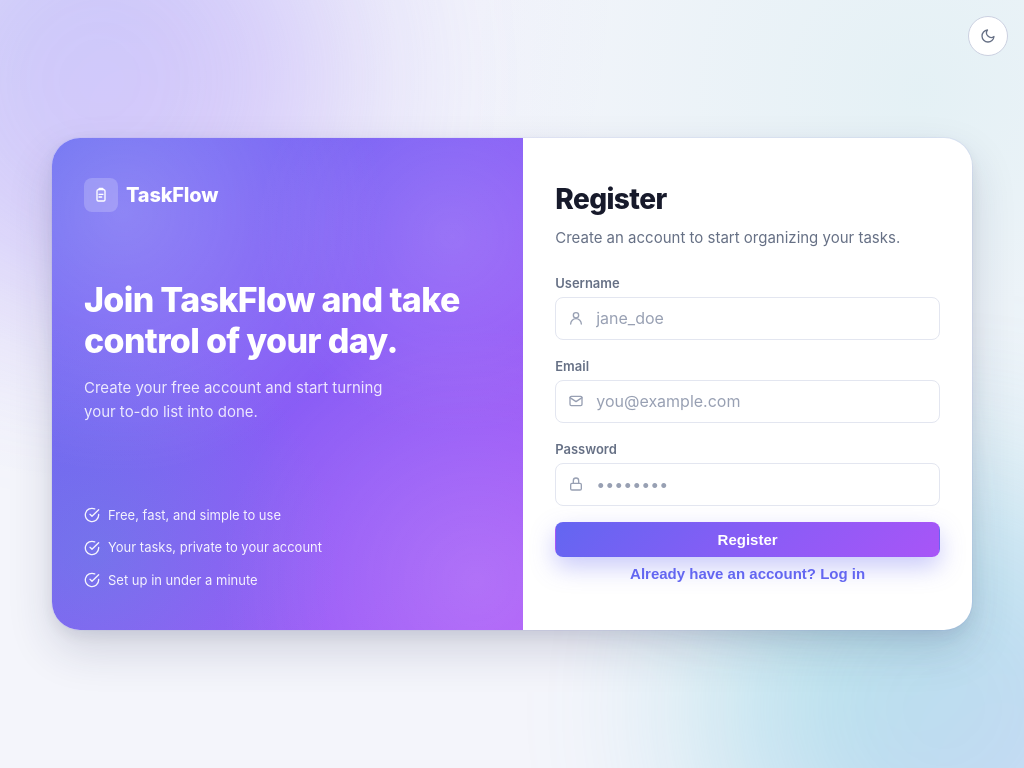
Test: RegisterPage › a rejected register promise renders the error text via role="alert"
Step 1. Type "alice" into the field labelled "Username" → (762, 318), box [596, 298, 927, 339]
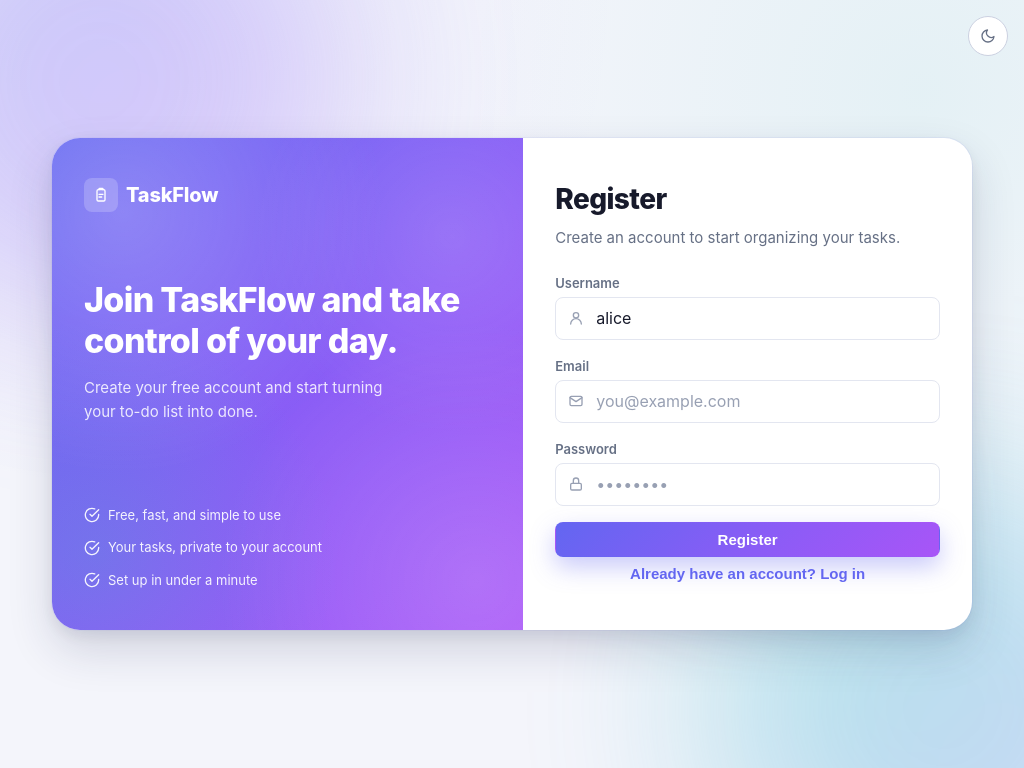
Step 2. Type "a@b.com" into the field labelled "Email" → (762, 401), box [596, 381, 927, 422]
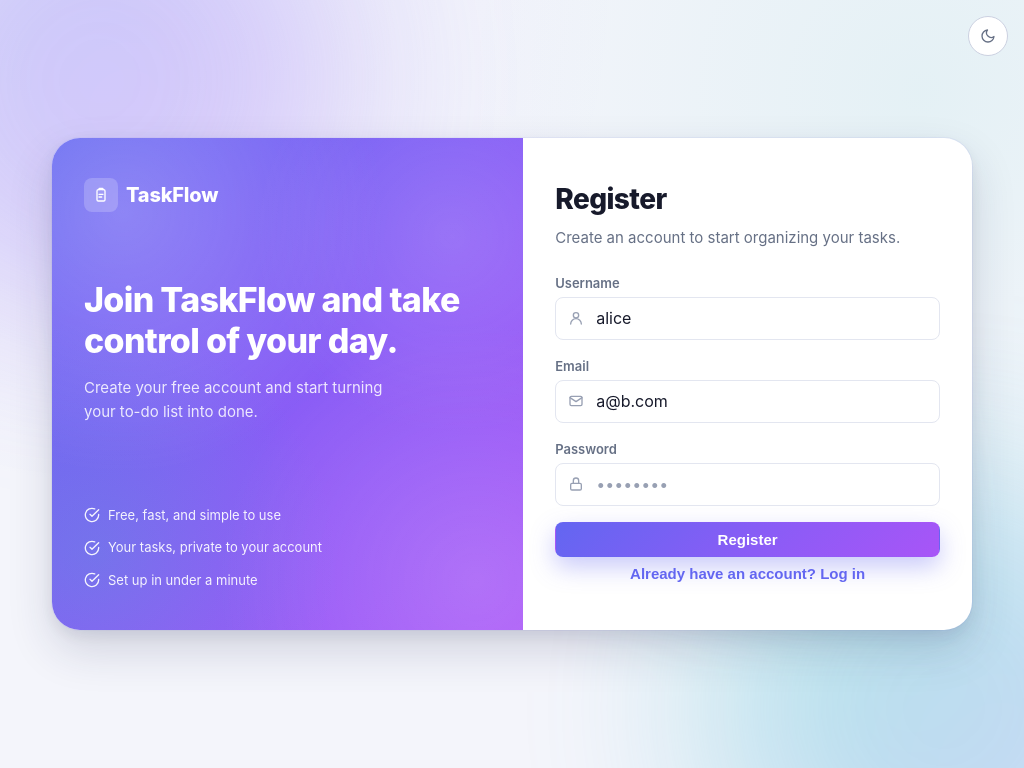
Step 3. Type "secret1" into the password field labelled "Password" → (762, 484), box [596, 464, 927, 505]
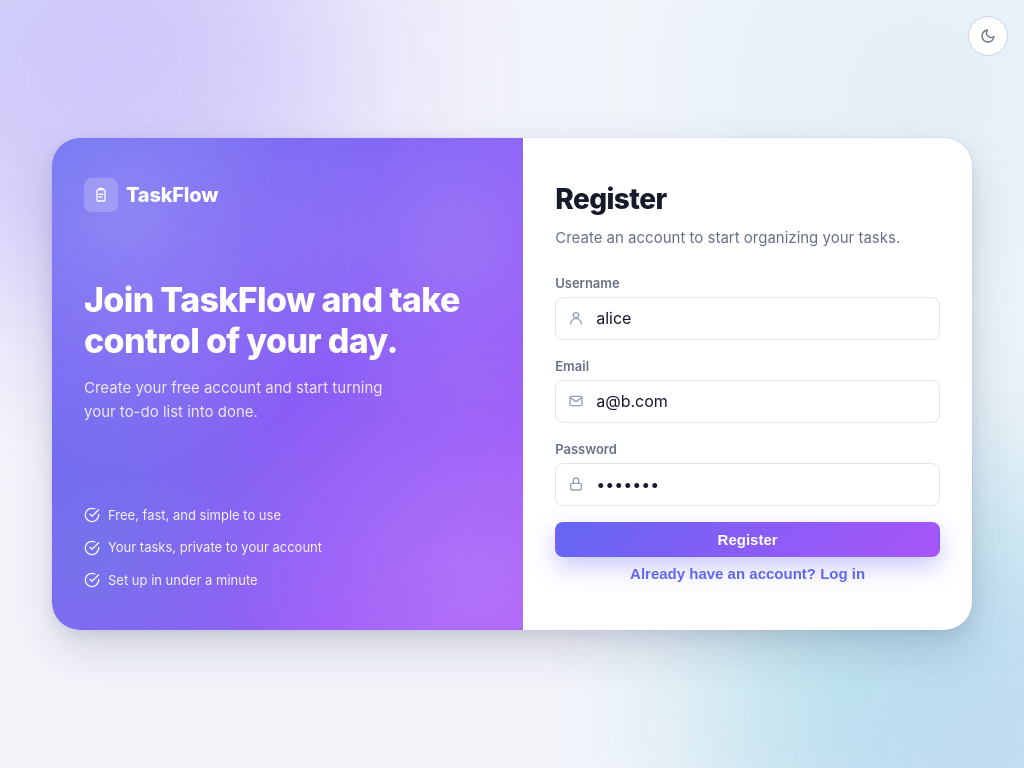
Step 4. Click the button "Register" → (748, 539), box [555, 522, 940, 557]
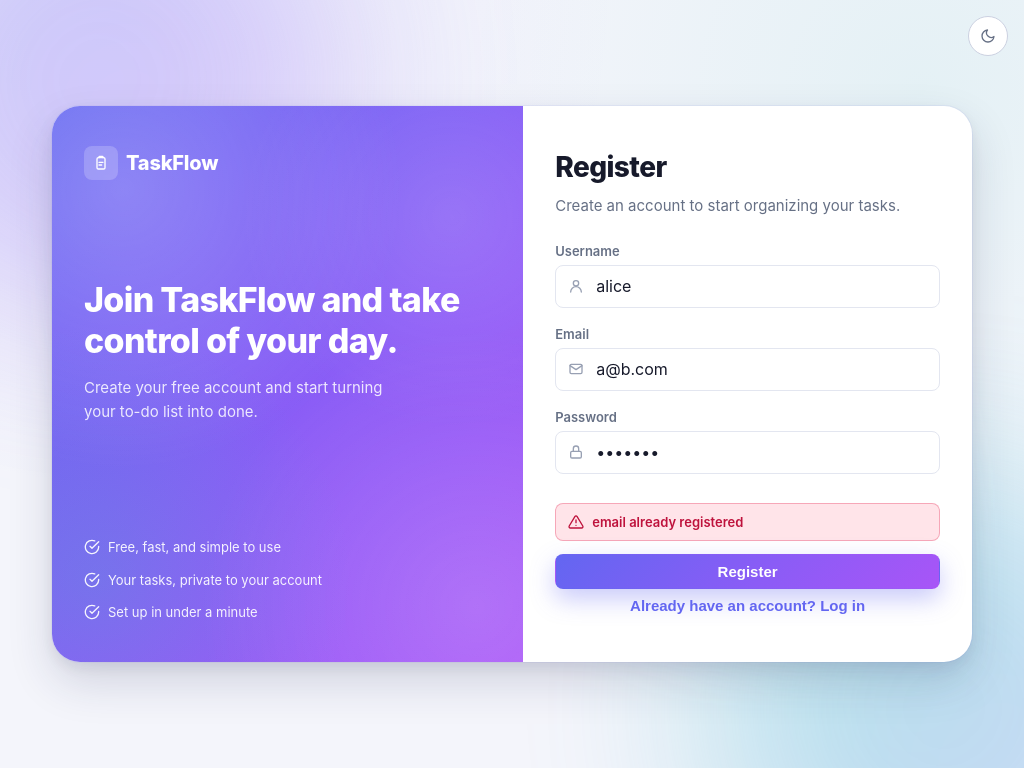
Check: the message reads "email already registered", box [592, 514, 743, 530]
